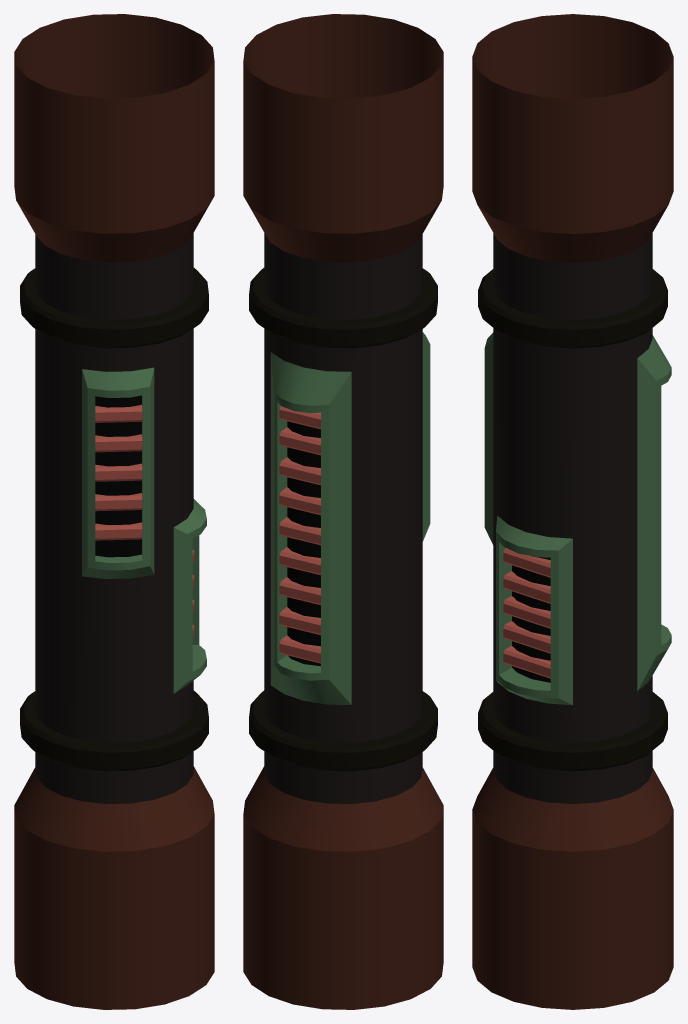
The model's file is OBJ_VAR_2_Tuyau_0_LOD.fbx.
The picture shows the model from 3 angles, left to right: view 1: azimuth 30°, elevation 25°; view 2: azimuth 150°, elevation 25°; view 3: azimuth 270°, elevation 25°; orthographic projection.
Parts seen in each view (by area): view 1: OBJ_VAR_2_Tuyau_0_LOD; view 2: OBJ_VAR_2_Tuyau_0_LOD; view 3: OBJ_VAR_2_Tuyau_0_LOD.
Boxes of the visible parts, box(x1,y1,x2,y2) form: OBJ_VAR_2_Tuyau_0_LOD: box(14, 14, 214, 1009); OBJ_VAR_2_Tuyau_0_LOD: box(243, 14, 443, 1009); OBJ_VAR_2_Tuyau_0_LOD: box(472, 14, 673, 1009).
Bounding box in the file's own units: 1201 × 6000 × 1201.
